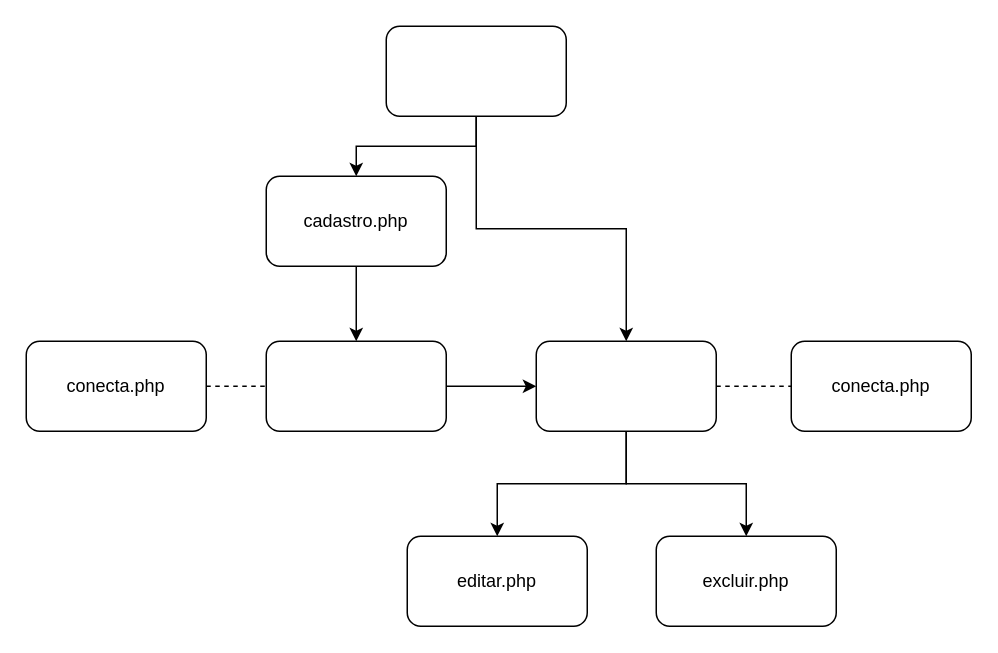
This 998x653 diagram has some shape labels left out. Each missing label, with the centre of its shape:
"grava.php" belongs at (x=355, y=385).
"index.php" belongs at (x=475, y=70).
"lista.php" belongs at (x=625, y=385).
